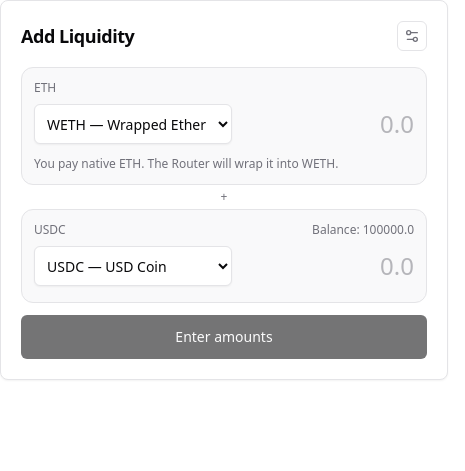
Test: AddLiquidity › shows approve button when the non-ETH token allowance is insufficient
In the 1st field with placeholder "0.0": (327,124) [240,100,414,148], type "1"
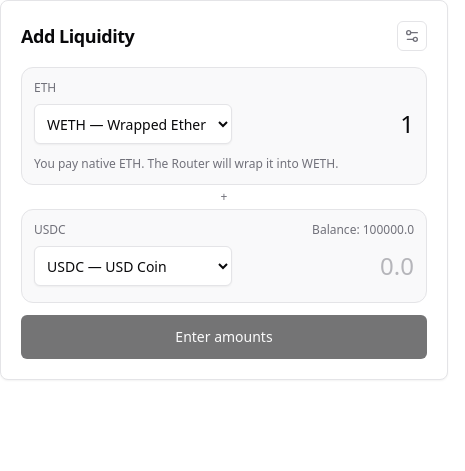
In the field with placeholder "0.0": (327,266) [240,242,414,290], type "100"
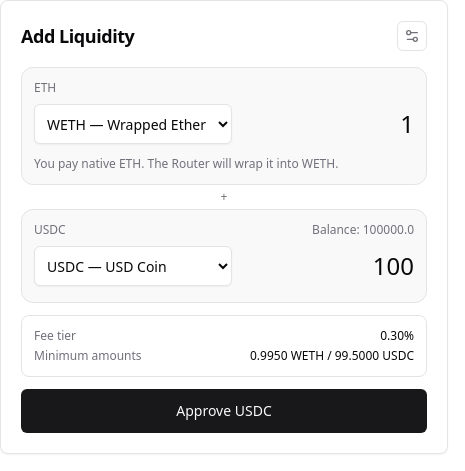
Check: the button "Approve USDC" is shown, box [21,389,427,433]
